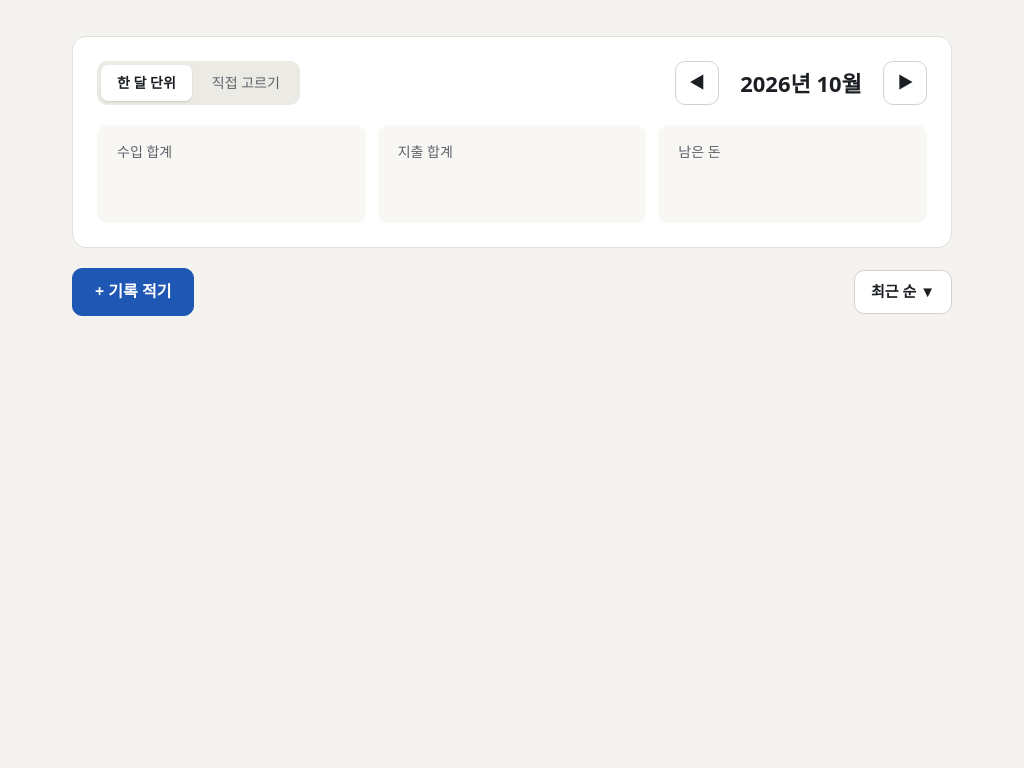
Scenario: T-414 직접 고르기 › 시작일이 끝날보다 뒤이면 알림을 보이고 요청하지 않는다
The image size is (1024, 768).
Click the button "직접 고르기": click(246, 83) [196,65,296,101]
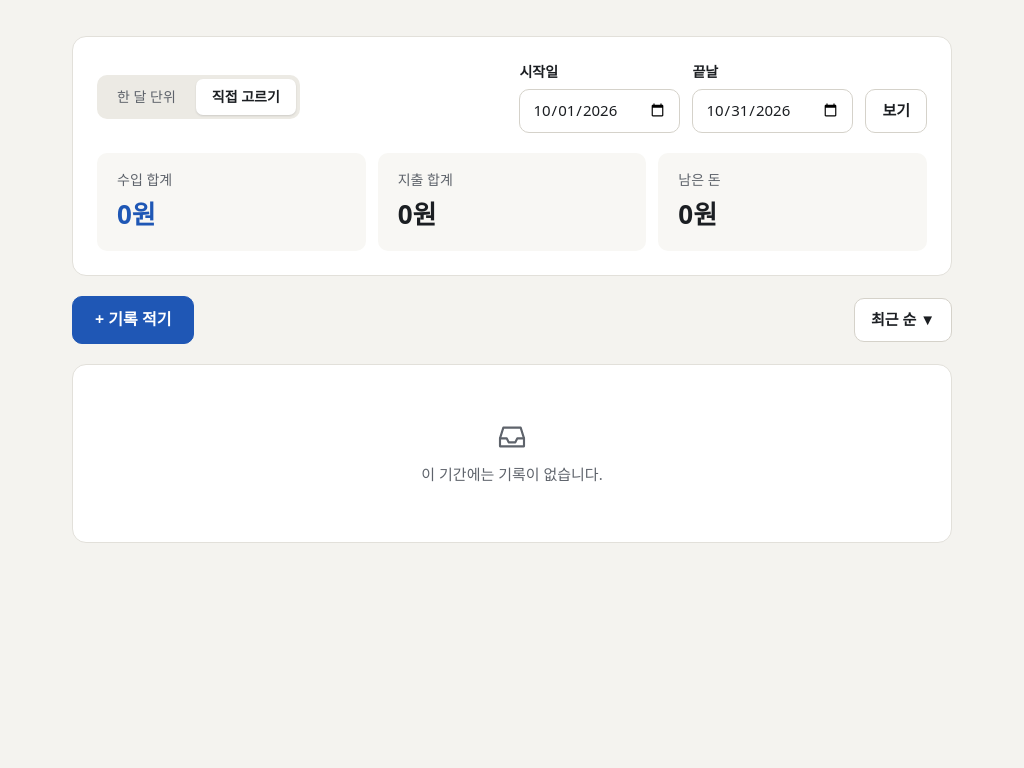
In the date field labelled "시작일": (600, 111) [519,89,680,133], type "2026-10-20"
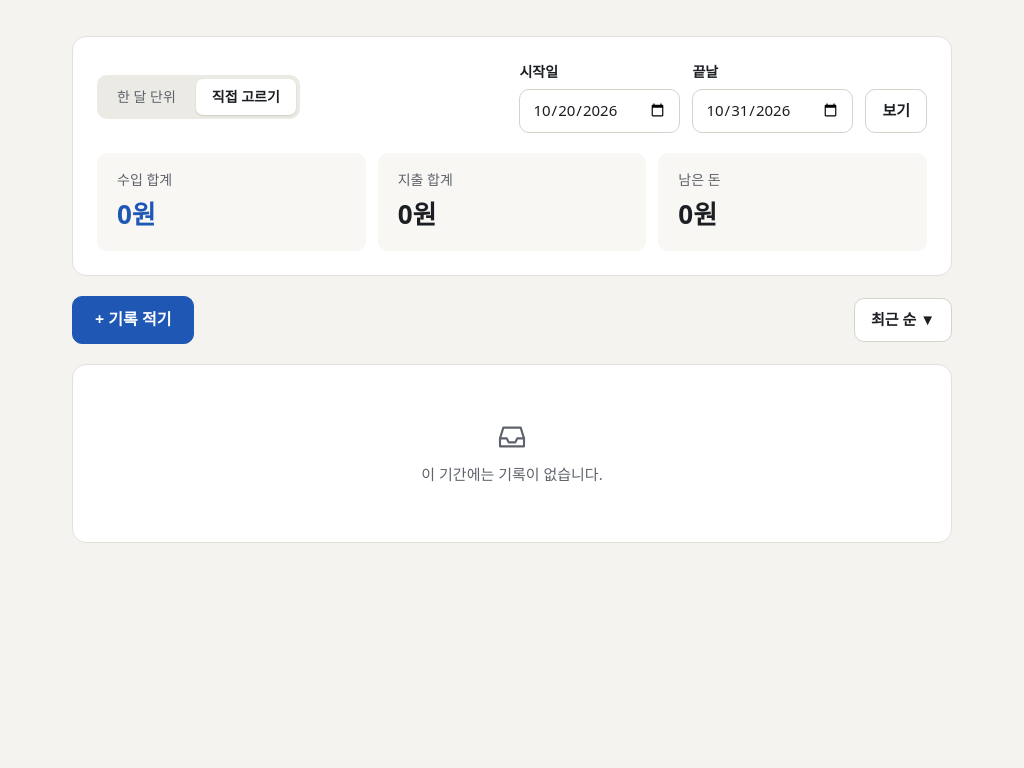
In the date field labelled "끝날": (773, 111) [692,89,853,133], type "2026-10-10"
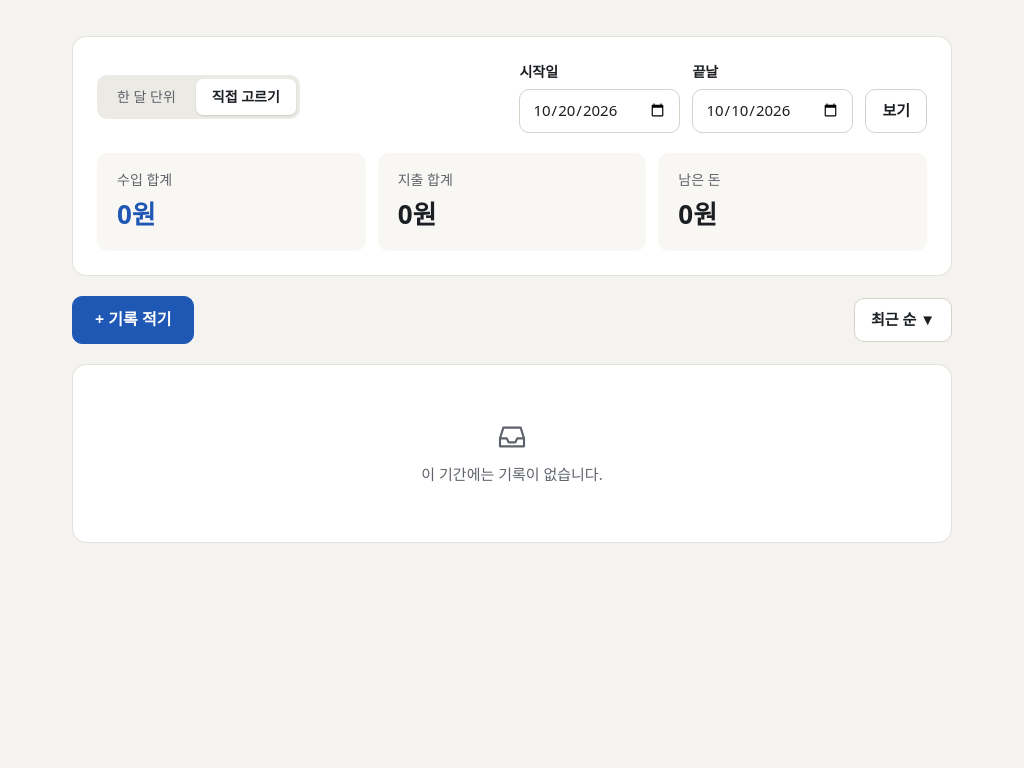
Click the button "보기": click(896, 111) [865,89,927,133]
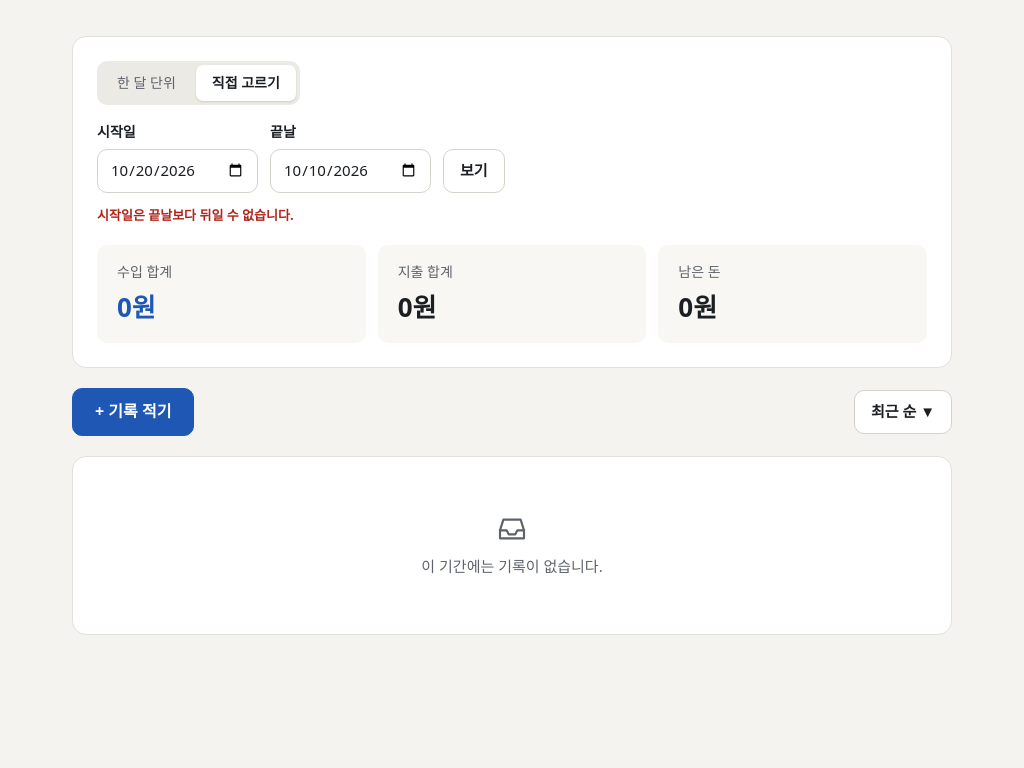
Check: the text "시작일은 끝날보다 뒤일 수 없습니다." is shown, box [97,206,294,224]
